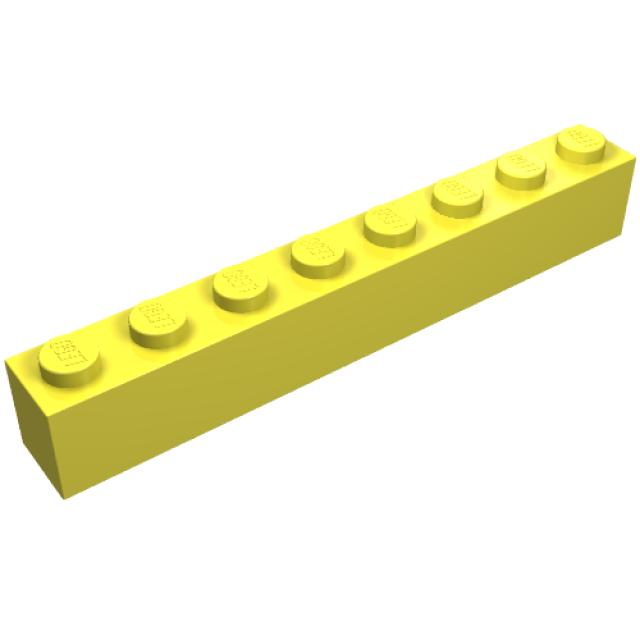Yellow_Large: (3, 124, 640, 502)
